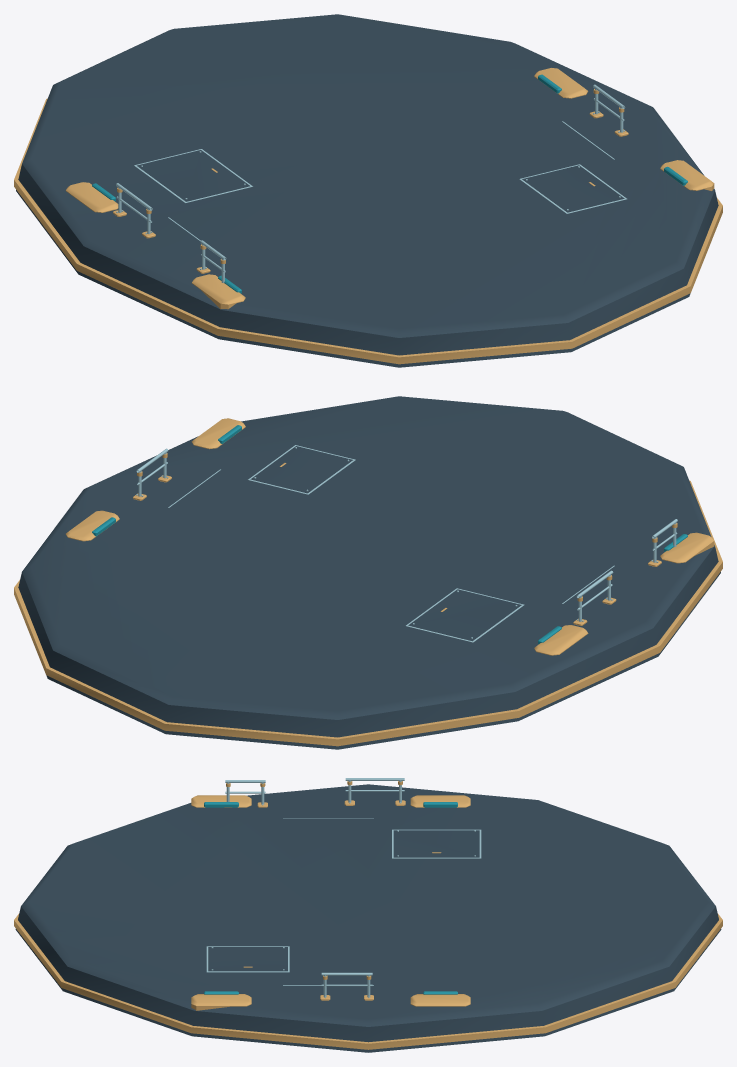
Rendered from CitadelBowl.glb.
The picture shows the model from 3 angles, top to bottom: view 1: azimuth 30°, elevation 25°; view 2: azimuth 150°, elevation 25°; view 3: azimuth 270°, elevation 25°; orthographic projection. The views are drawn at different scales.
Parts seen in each view (by area): view 1: arena; view 2: arena; view 3: arena.
Boxes of the visible parts, left/top/right/bottom form: arena: left=14, top=14, right=722, bottom=367; arena: left=14, top=396, right=722, bottom=749; arena: left=14, top=778, right=722, bottom=1052.
Size of the model in its own units: 21.92 by 2.97 by 26.52.
